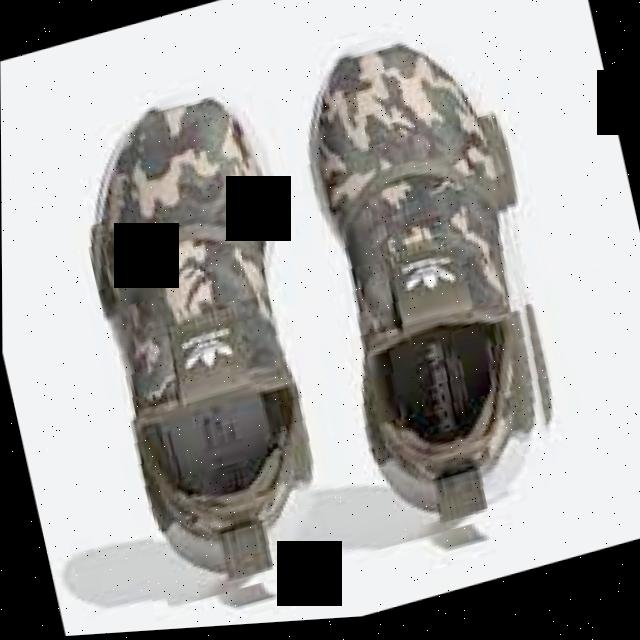shoe: (60, 14, 581, 616)
